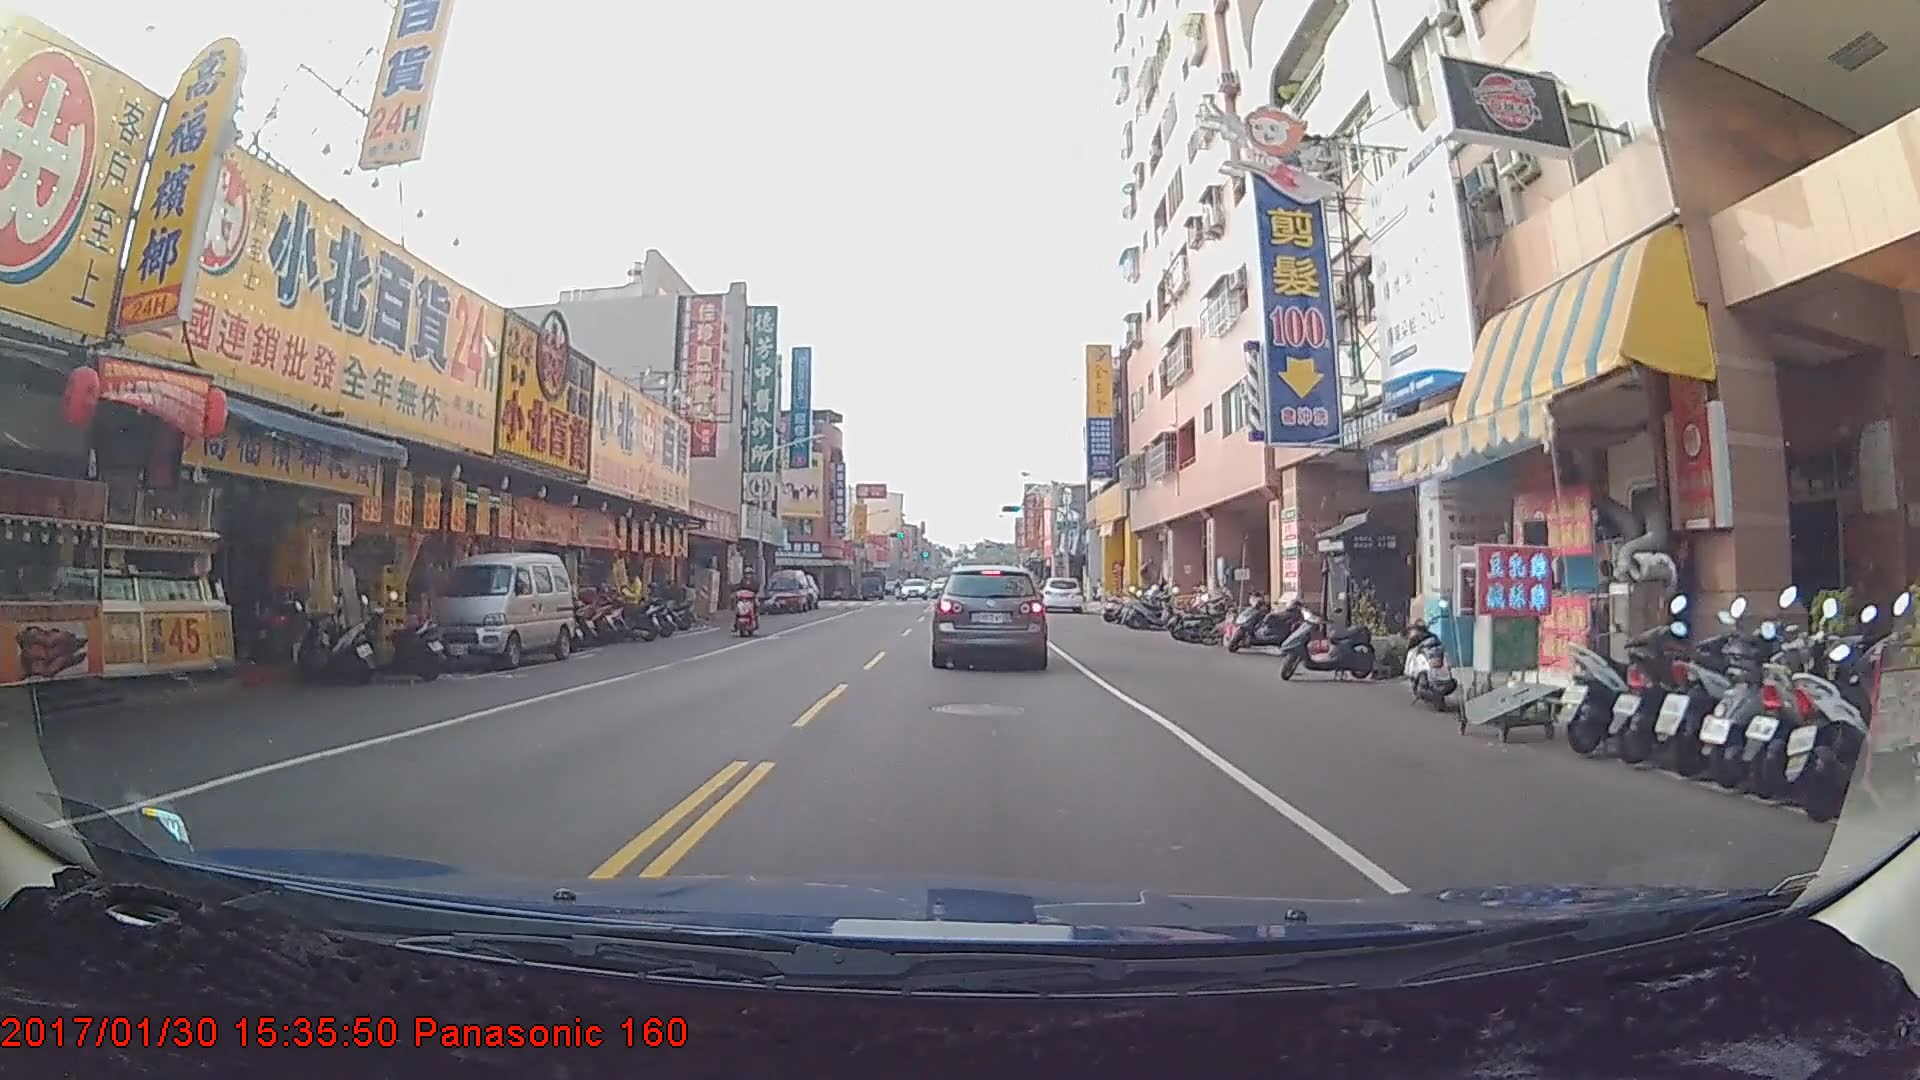pedestrian: (611, 567, 649, 637)
rider: (735, 563, 770, 638)
vehicle: (418, 549, 570, 669), (932, 562, 1048, 669), (764, 570, 811, 613), (1037, 576, 1084, 615), (899, 580, 928, 602)
